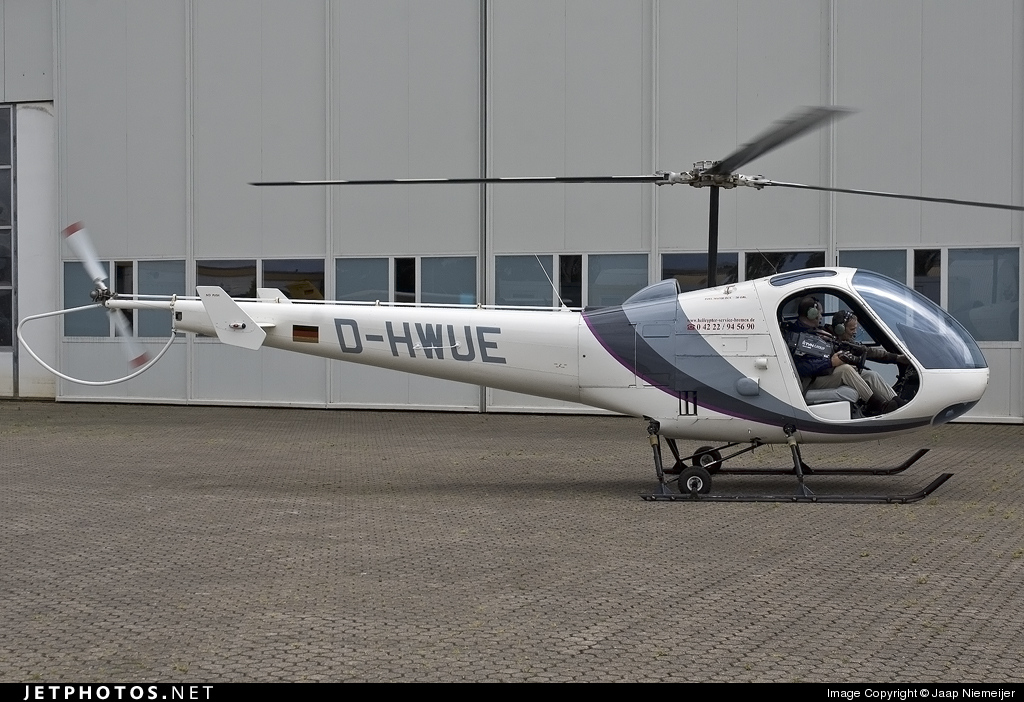number: (331, 318, 510, 367)
